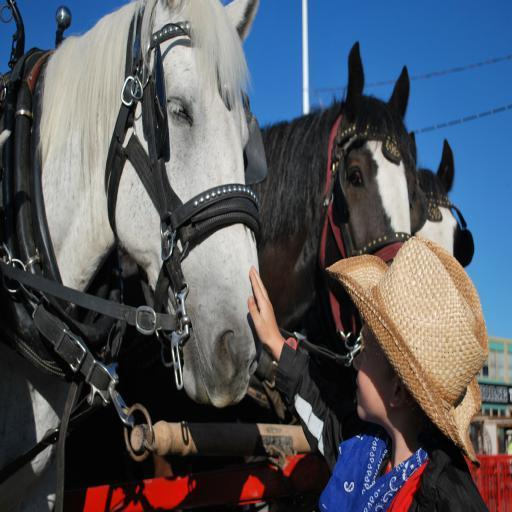horse: (0, 0, 260, 512), (116, 40, 420, 423), (410, 130, 462, 259)
